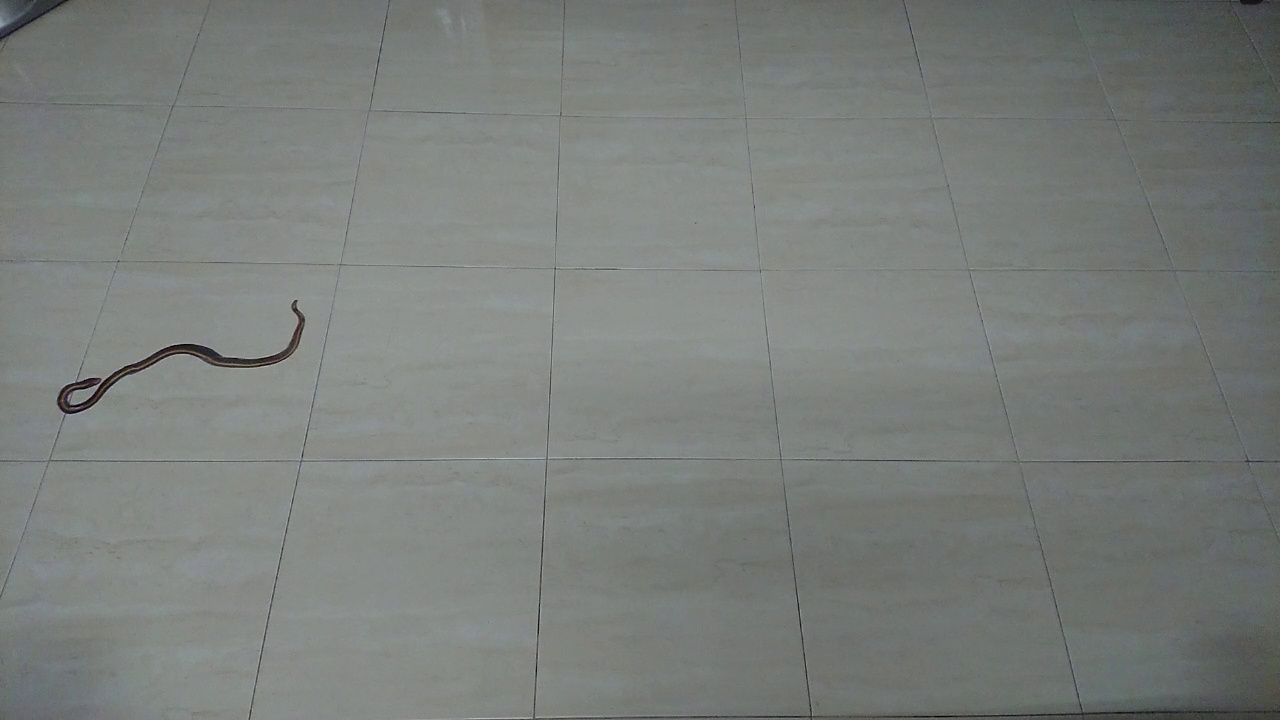snake: (50, 288, 311, 427)
